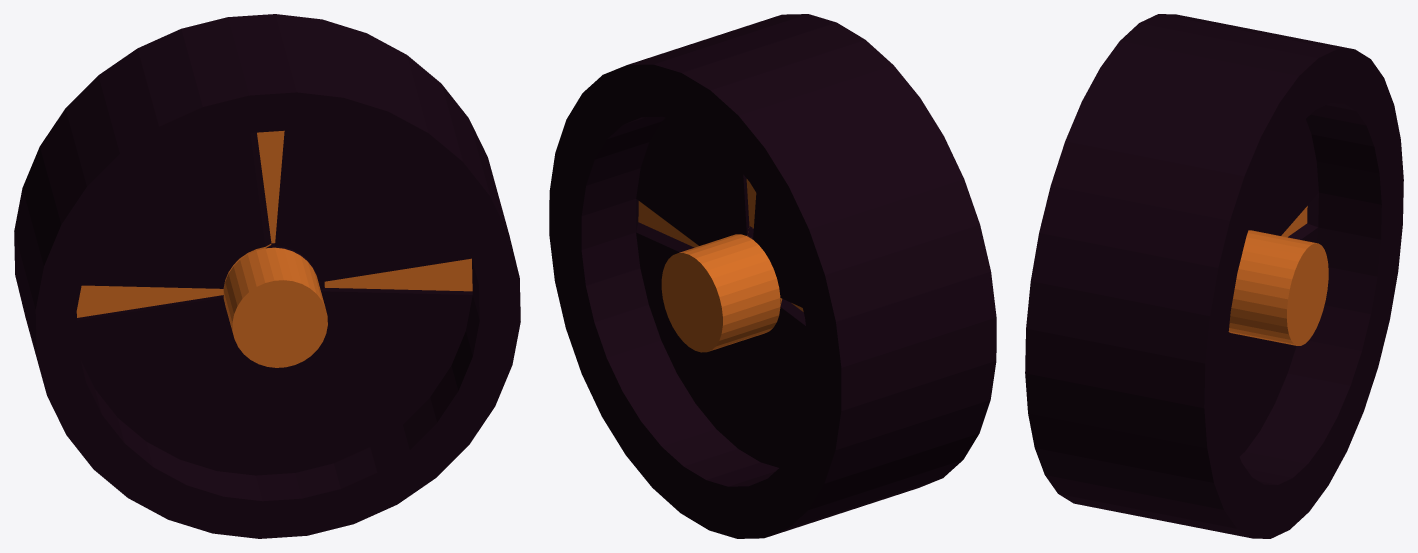
The model's file is wheelshop.fbx.
3 renders of one model, left to right at view 1: azimuth 30°, elevation 25°; view 2: azimuth 150°, elevation 25°; view 3: azimuth 270°, elevation 25°, orthographic. The views are drawn at different scales.
Parts seen in each view (by area): view 1: Cylinder.001; view 2: Cylinder.001; view 3: Cylinder.001.
Boxes of the visible parts, <box> form: Cylinder.001: <box>14,14,520,538</box>; Cylinder.001: <box>549,14,996,538</box>; Cylinder.001: <box>1025,14,1403,538</box>.
Bounding box in the file's own units: 214 × 200 × 151.
